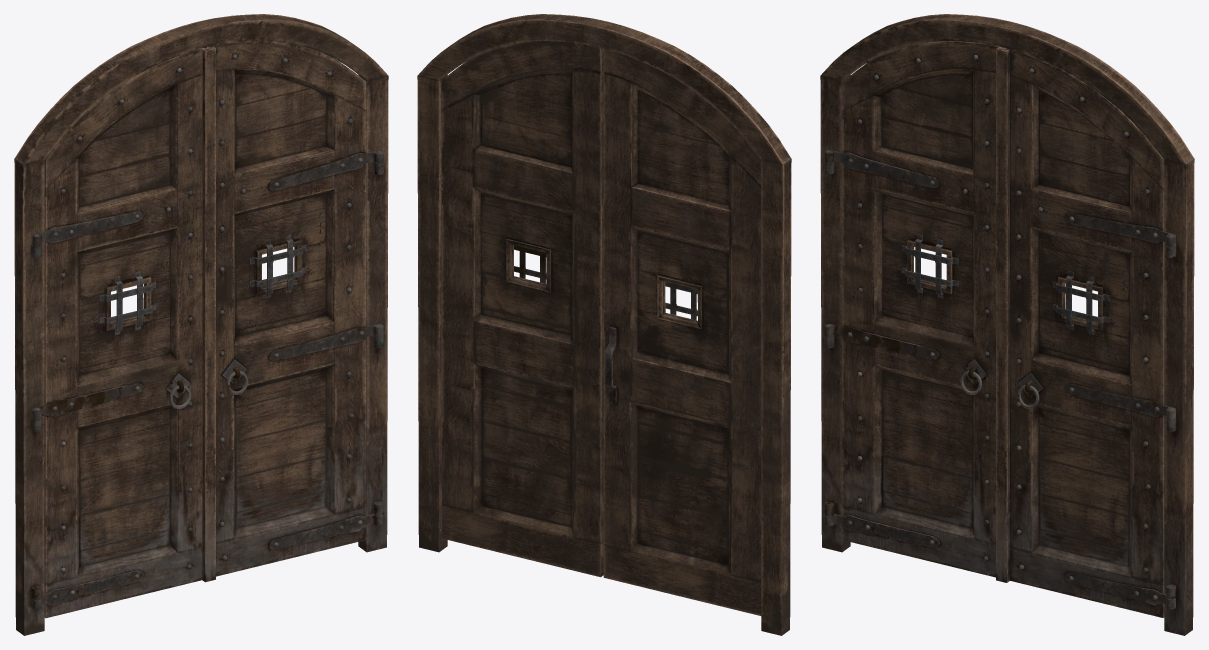
The model's file is large_castle_door.glb.
3 views of the same model, side by side, from view 1: azimuth 30°, elevation 25°; view 2: azimuth 150°, elevation 25°; view 3: azimuth 330°, elevation 25° (orthographic).
Parts seen in each view (by area): view 1: large_castle_door_right, large_castle_door_left, large_castle_door_frame; view 2: large_castle_door_right, large_castle_door_left, large_castle_door_frame; view 3: large_castle_door_right, large_castle_door_left, large_castle_door_frame.
Boxes of the visible parts, box(x1,y1,x2,y2) form: large_castle_door_right: box(202, 41, 383, 582); large_castle_door_left: box(32, 48, 204, 618); large_castle_door_frame: box(14, 14, 388, 635); large_castle_door_right: box(441, 41, 603, 577); large_castle_door_left: box(603, 48, 761, 615); large_castle_door_frame: box(417, 14, 791, 635); large_castle_door_right: box(996, 47, 1175, 617); large_castle_door_left: box(824, 41, 1004, 577); large_castle_door_frame: box(820, 14, 1194, 635).
Bounding box in the file's own units: 2.01 × 2.96 × 0.1562.
1 material, 1 textured.
